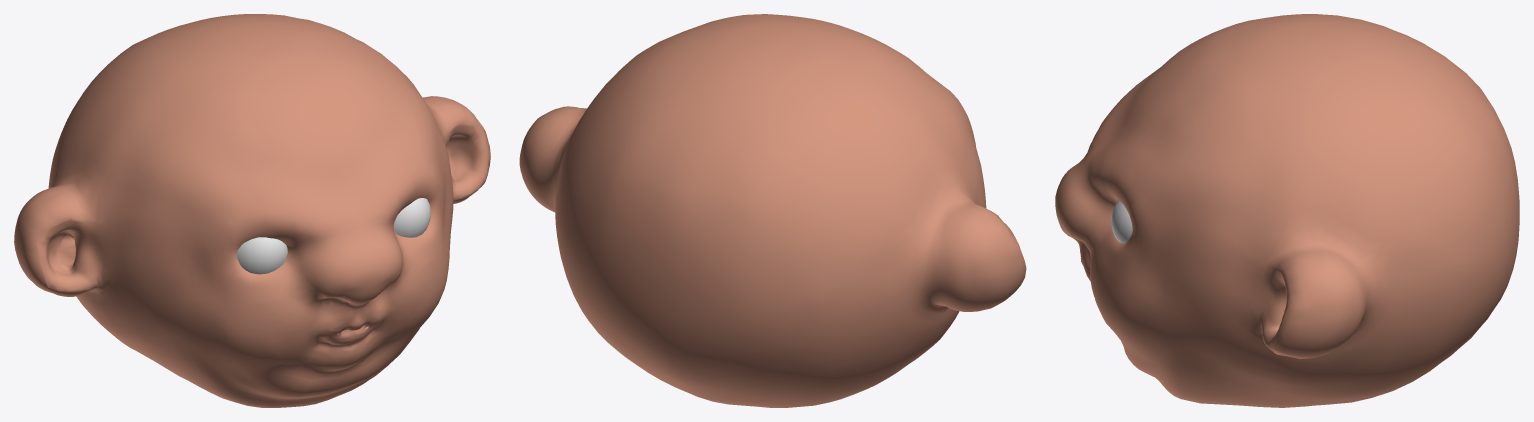
The model's file is BasisCharacter_V1.fbx.
3 renders of one model, left to right at view 1: azimuth 30°, elevation 25°; view 2: azimuth 150°, elevation 25°; view 3: azimuth 270°, elevation 25°, orthographic. The views are drawn at different scales.
Parts seen in each view (by area): view 1: Retopo.Copy, Oogballen; view 2: Retopo.Copy; view 3: Retopo.Copy, Oogballen.
Boxes of the visible parts, x1=… form: Retopo.Copy: x1=14, y1=14, x2=490, y2=407; Oogballen: x1=237, y1=198, x2=430, y2=274; Retopo.Copy: x1=519, y1=14, x2=1026, y2=407; Retopo.Copy: x1=1055, y1=14, x2=1519, y2=407; Oogballen: x1=1111, y1=200, x2=1132, y2=243.
Size of the model in its own units: 258 by 176 by 213.
